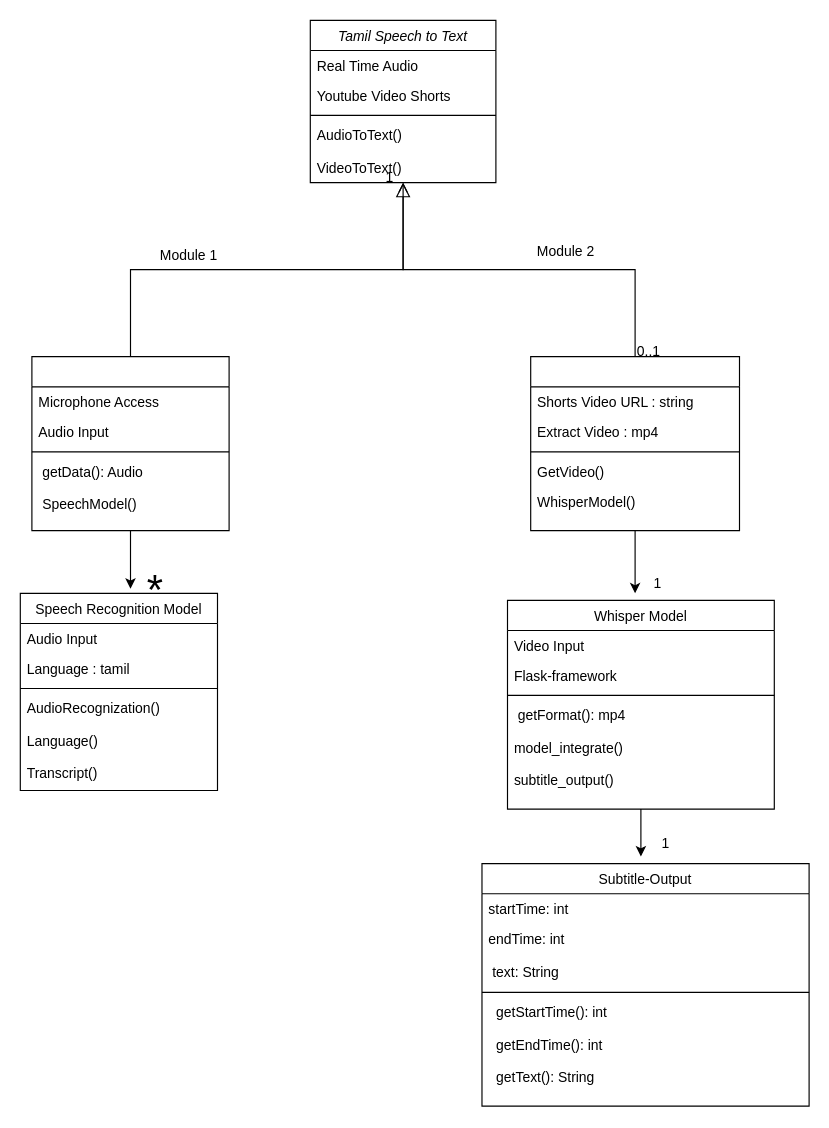
This 829x1128 diagram has some shape labels left out. Each missing label, with the box of its shape:
REAL TIME SPEECH: (31, 356, 229, 531)
YouTubeVideo: (530, 356, 740, 531)
